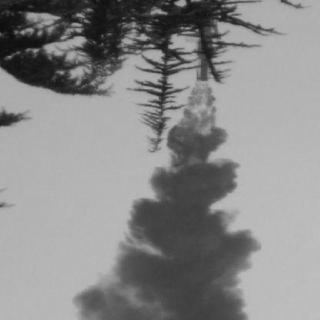Fire: (161, 68, 243, 160)
Smoke: (90, 163, 254, 317)
